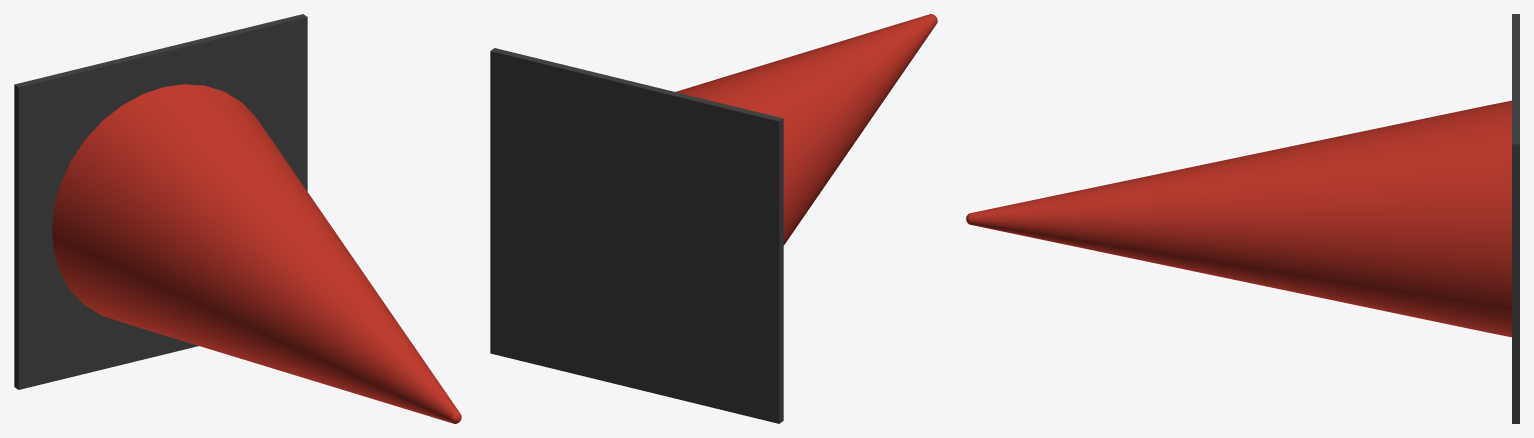
The model's file is practice_fusion v2.fbx.
The picture shows the model from 3 angles, left to right: view 1: azimuth 30°, elevation 25°; view 2: azimuth 150°, elevation 25°; view 3: azimuth 270°, elevation 25°; orthographic projection. The views are drawn at different scales.
Visible parts, largest first — view 1: Body2, Body1; view 2: Body1, Body2; view 3: Body2, Body1.
Part boxes in pixels (<box>): Body2: <box>52,84,461,423</box>; Body1: <box>14,14,307,389</box>; Body1: <box>490,48,783,423</box>; Body2: <box>676,14,937,245</box>; Body2: <box>966,100,1511,337</box>; Body1: <box>1512,14,1519,423</box>.
Size of the model in its own units: 390 by 390 by 700.
